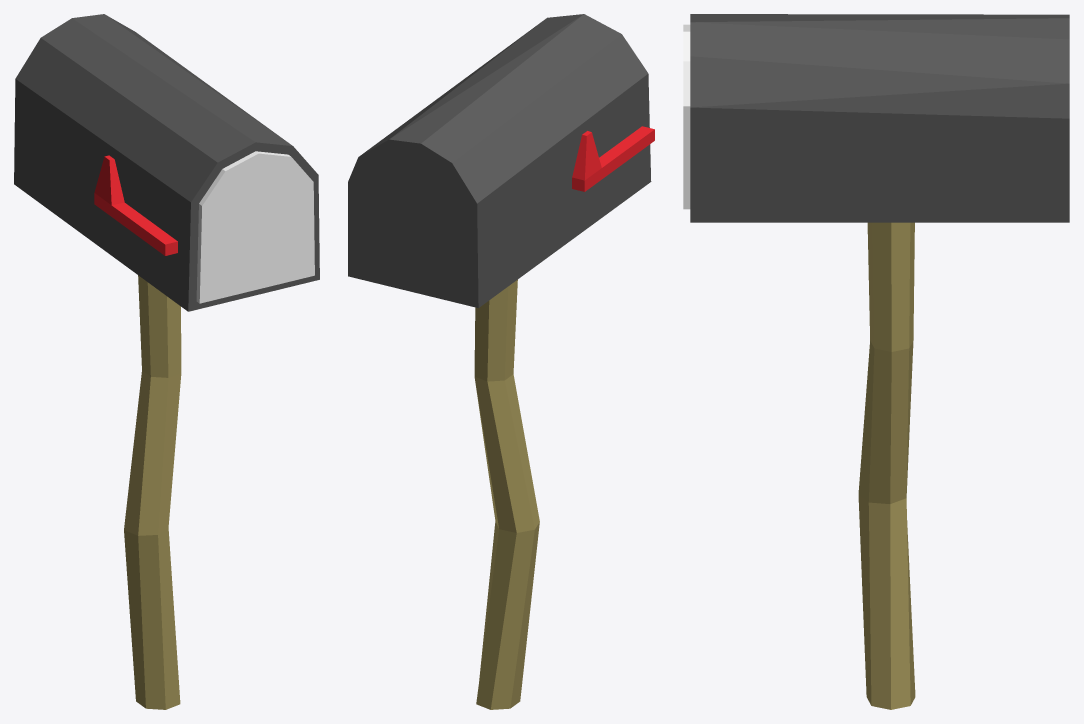
Rendered from mailbox02.fbx.
The picture shows the model from 3 angles, left to right: view 1: azimuth 30°, elevation 25°; view 2: azimuth 150°, elevation 25°; view 3: azimuth 270°, elevation 25°; orthographic projection. The views are drawn at different scales.
Parts seen in each view (by area): view 1: Cube.012; view 2: Cube.012; view 3: Cube.012.
Part boxes in pixels (x1,y1,x2,y2): Cube.012: (14, 14, 319, 709); Cube.012: (348, 14, 654, 709); Cube.012: (683, 14, 1069, 709).
Size of the model in its own units: 0.2976 by 1.22 by 0.6303.
